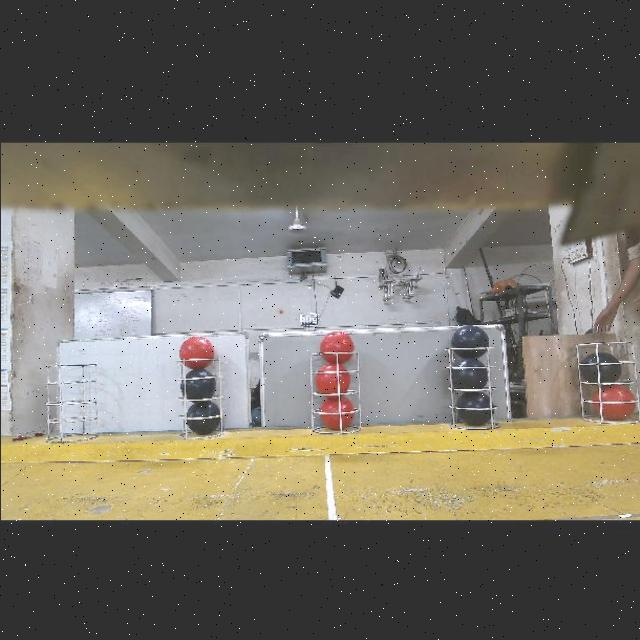P: (456, 391, 496, 425), (579, 352, 621, 383), (450, 324, 488, 358), (185, 400, 220, 434), (180, 367, 216, 399), (450, 357, 487, 388)
R: (591, 384, 635, 419), (179, 336, 214, 369), (319, 396, 353, 429), (314, 362, 349, 394), (319, 331, 353, 362)
S: (304, 352, 366, 436), (46, 360, 102, 442), (445, 346, 497, 434), (173, 356, 224, 444)
